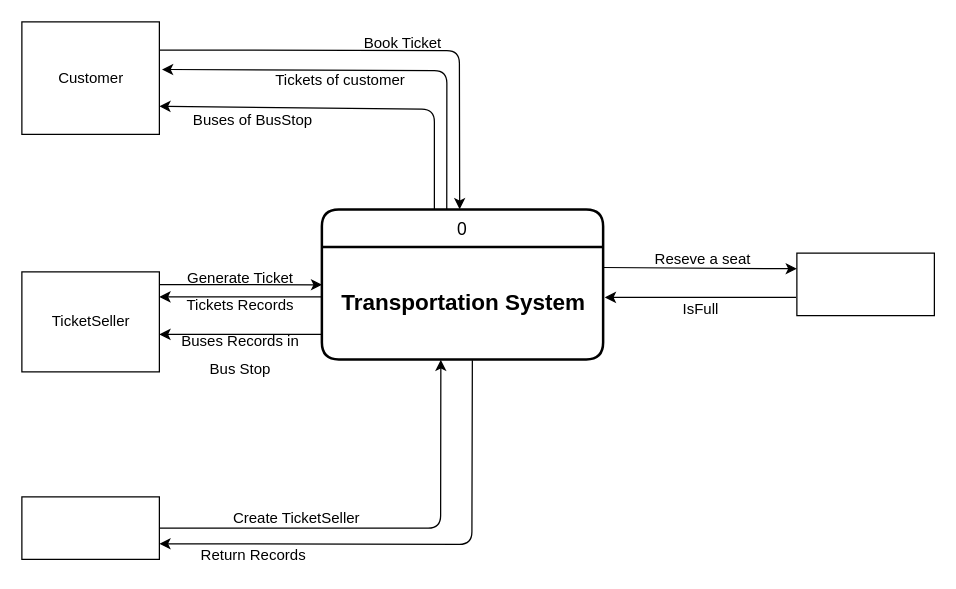
Image size: 956x589. Some labels were removed from this diagram. Here are the shapes that lost their labels. From the top down, the box of each, then its label:
(796, 252, 934, 316): Bus
(21, 496, 159, 559): Admin
